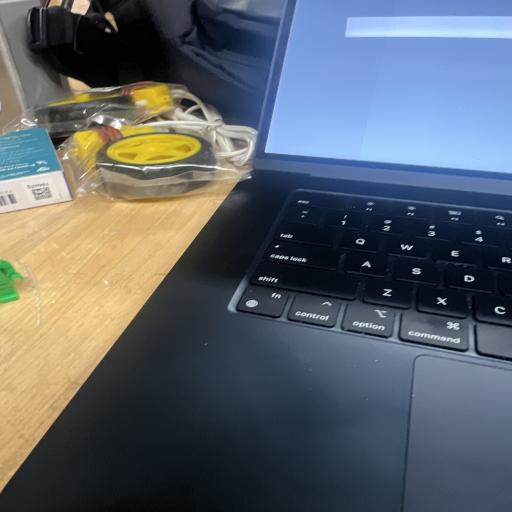green-lego-minifigure-detector: (0, 260, 23, 303)
